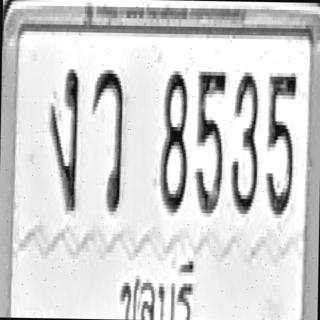A07: (48, 65, 80, 210)
A37: (89, 66, 124, 211)
N03: (230, 68, 259, 214)
N05: (264, 71, 296, 216), (194, 68, 226, 213)
N08: (158, 67, 188, 212)
P13: (115, 254, 197, 320)
